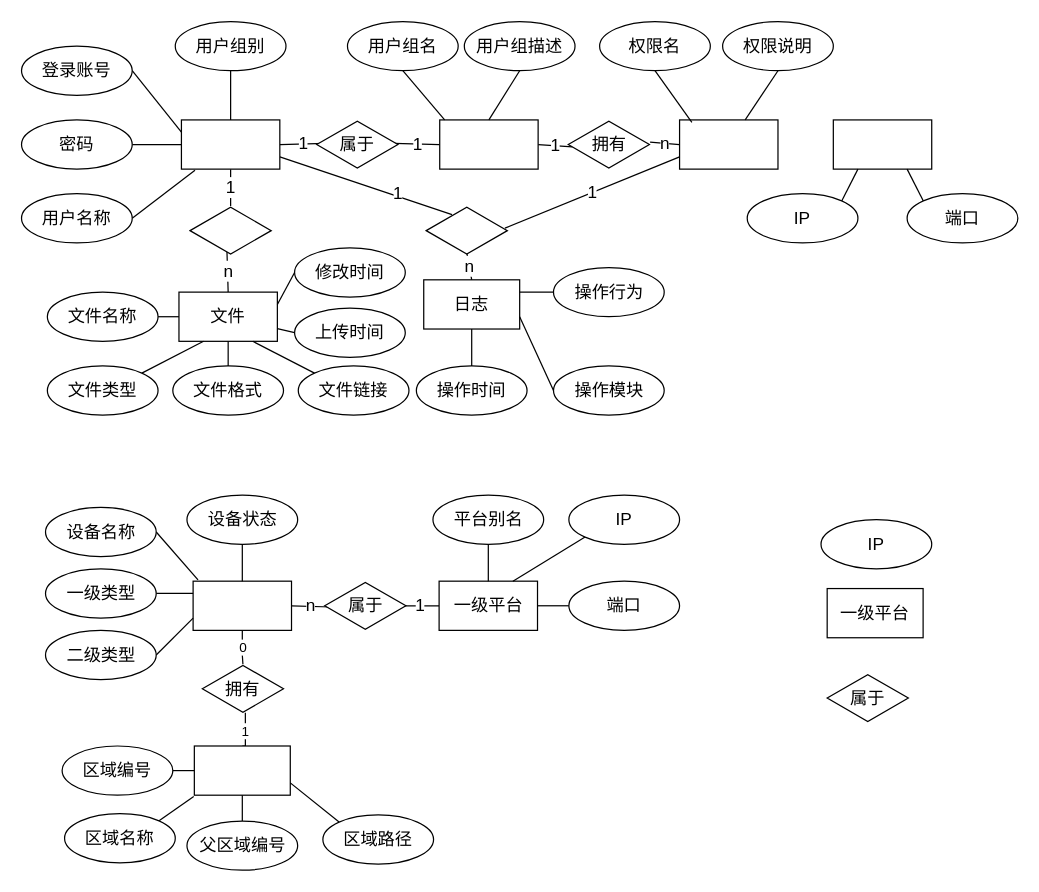
The diagram is 1039 pixels wide and 892 high, and some of its shapes have lost their labels. Each missing label, with the centre of its shape:
产生: [466,230]
区域数据: [241,770]
操作: [230,230]
权限: [728,144]
用户: [230,144]
用户组: [488,144]
白名单: [882,144]
设备: [242,605]
